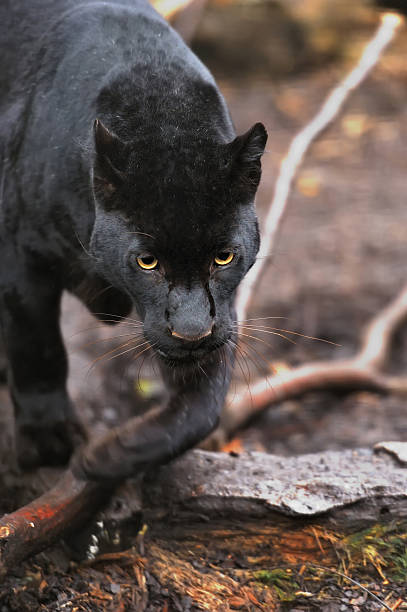panther: (54, 106, 302, 413)
